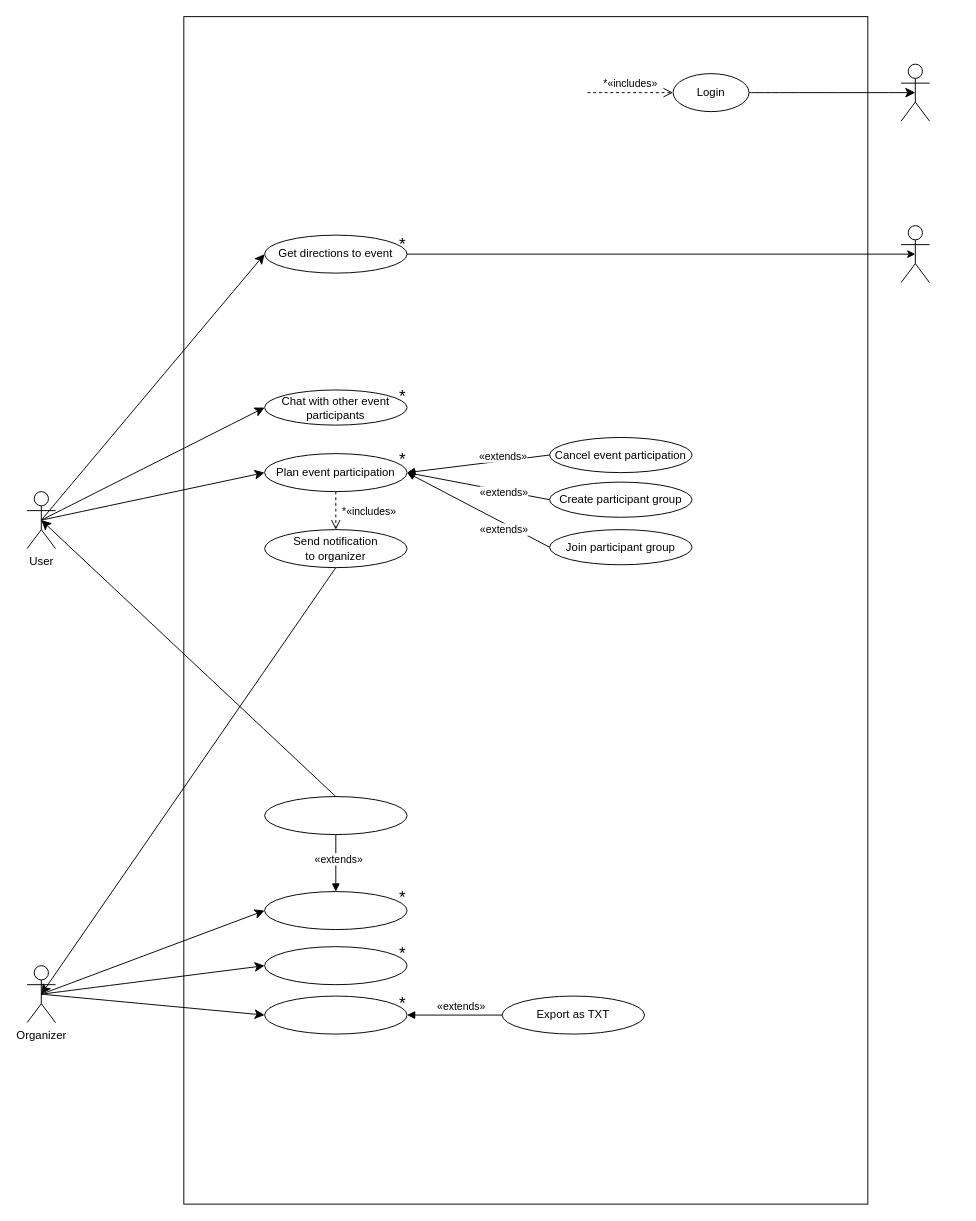
This 976x1221 diagram has some shape labels left out. Here are the shapes that lost their labels. From the top down, the box of each, then its label:
(900, 63, 930, 121): Google Login API
(900, 225, 930, 283): Google Maps API
(264, 796, 407, 835): Send notification to users
(264, 891, 407, 930): Create event
(264, 946, 407, 985): Manage event
(264, 995, 407, 1034): View analytics
